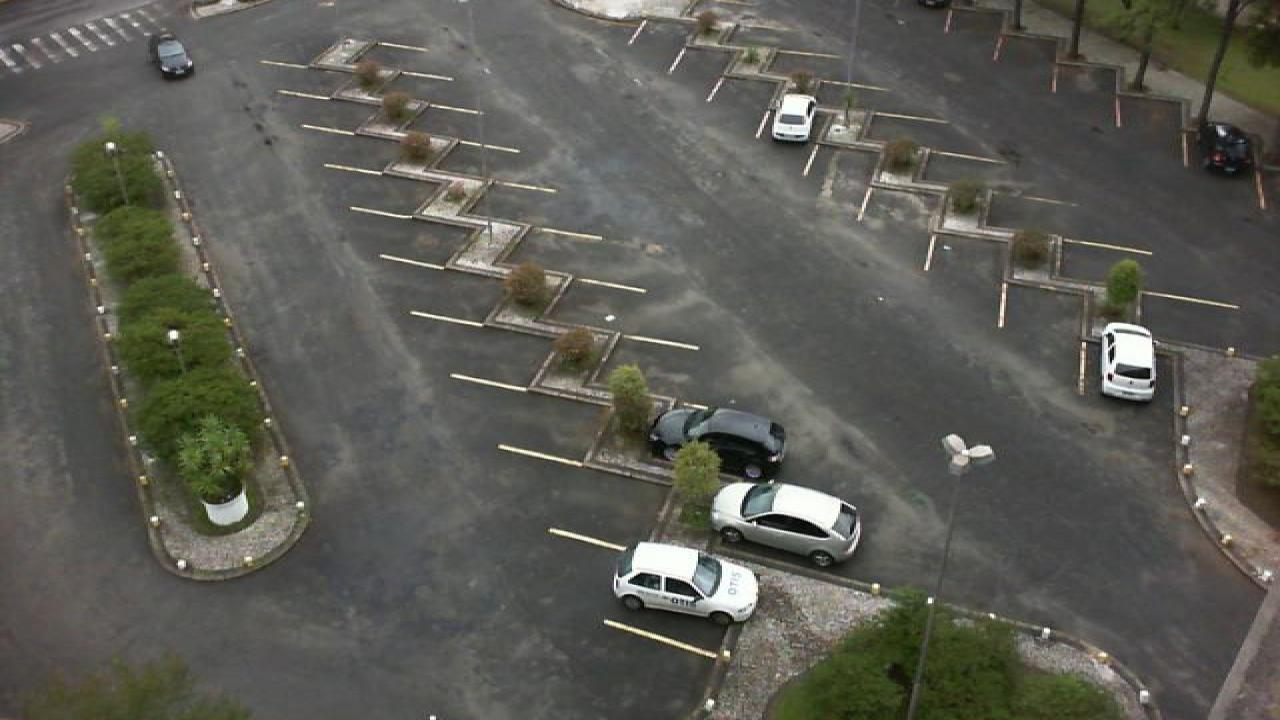Car: (708, 479, 864, 567), (610, 541, 764, 627), (648, 404, 790, 479), (1096, 322, 1160, 402), (1198, 121, 1256, 176), (770, 92, 816, 144)
